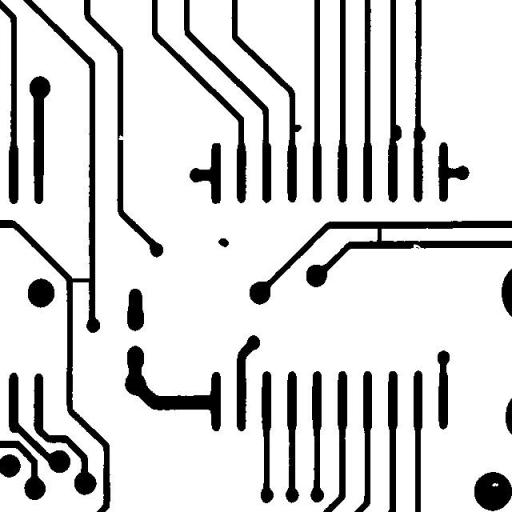copper: (210, 230, 236, 254)
mousebite: (403, 236, 428, 258), (110, 127, 132, 147)
pin-hole: (484, 475, 506, 494)
short: (61, 270, 98, 290), (369, 218, 389, 251)
spur: (386, 117, 408, 148), (282, 117, 308, 140)
